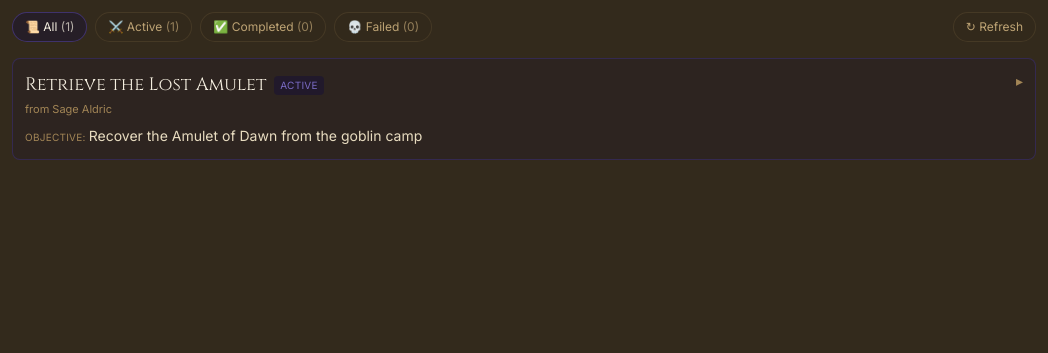
it: QuestLogPanel › surfaces an error when the status update fails
This screenshot has width=1048, height=353.
Expected: the text "Objective: Recover the Amulet of Dawn from the goblin camp" is shown, [25,126,422,144]
Click the button "Retrieve the Lost Amulet active from Sage Aldric ▸" at (146,84), box [25,71,1023,118]
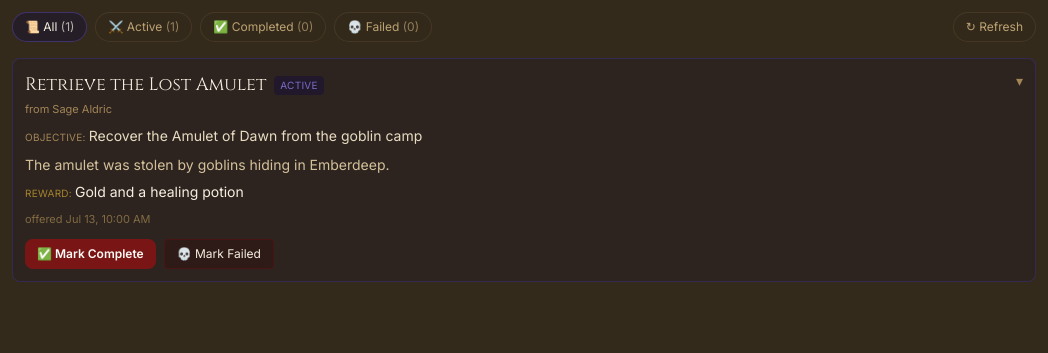
Click the button "✅ Mark Complete" at (90,254), box [25,239,156,269]
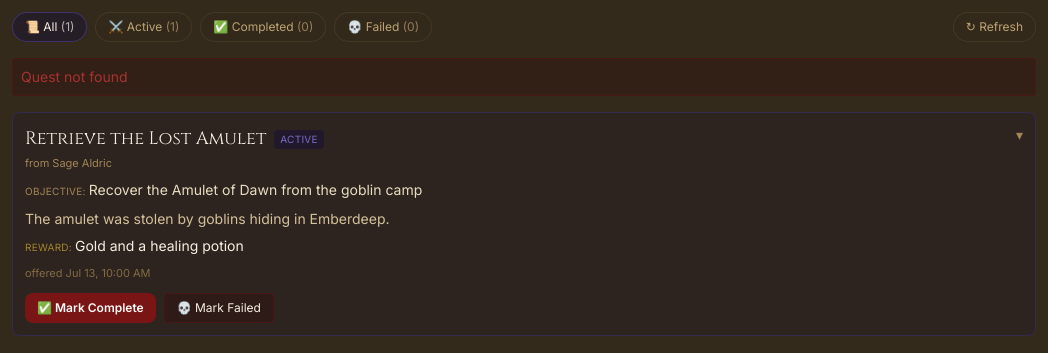
Expected: the text "Quest not found" is shown, [12,58,1036,96]
